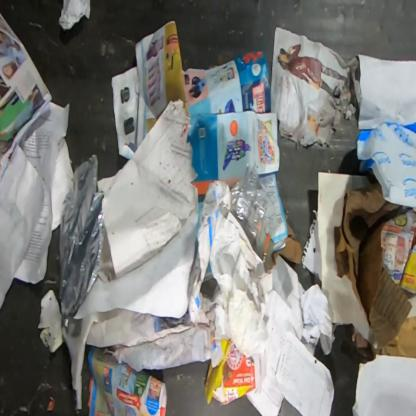cardboard: (335, 182, 412, 354), (204, 339, 256, 406), (266, 222, 302, 274), (378, 316, 416, 358)
rigid_plastic: (58, 0, 90, 30)
soft_plastic: (59, 154, 106, 331), (188, 180, 230, 323), (355, 121, 415, 212), (218, 166, 270, 262), (210, 340, 223, 370)
